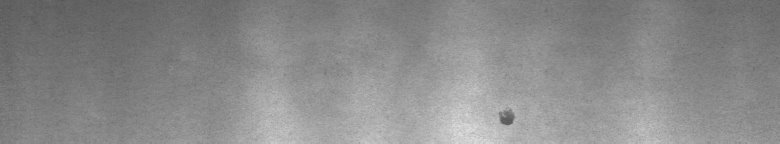fi: (493, 102, 520, 132)
